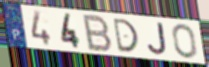4: (30, 9, 53, 47), (60, 12, 82, 49)
B: (82, 14, 114, 54)
D: (111, 17, 140, 53)
J: (146, 22, 169, 57)
O: (171, 23, 199, 61)
